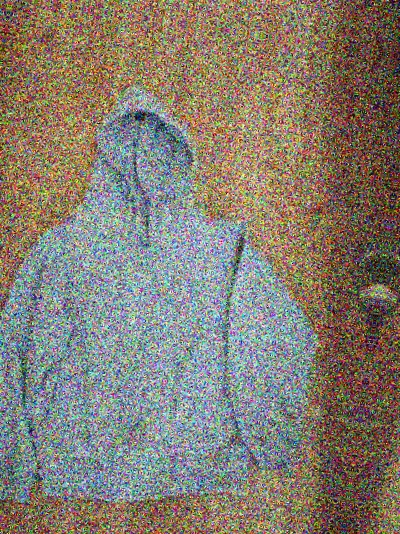Hoodie: (0, 67, 375, 534), (371, 124, 400, 534)
